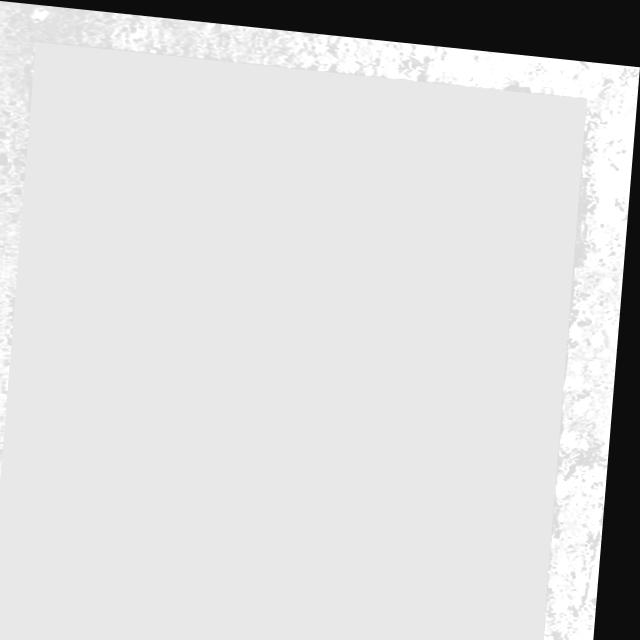qr_code: (0, 40, 588, 640)
